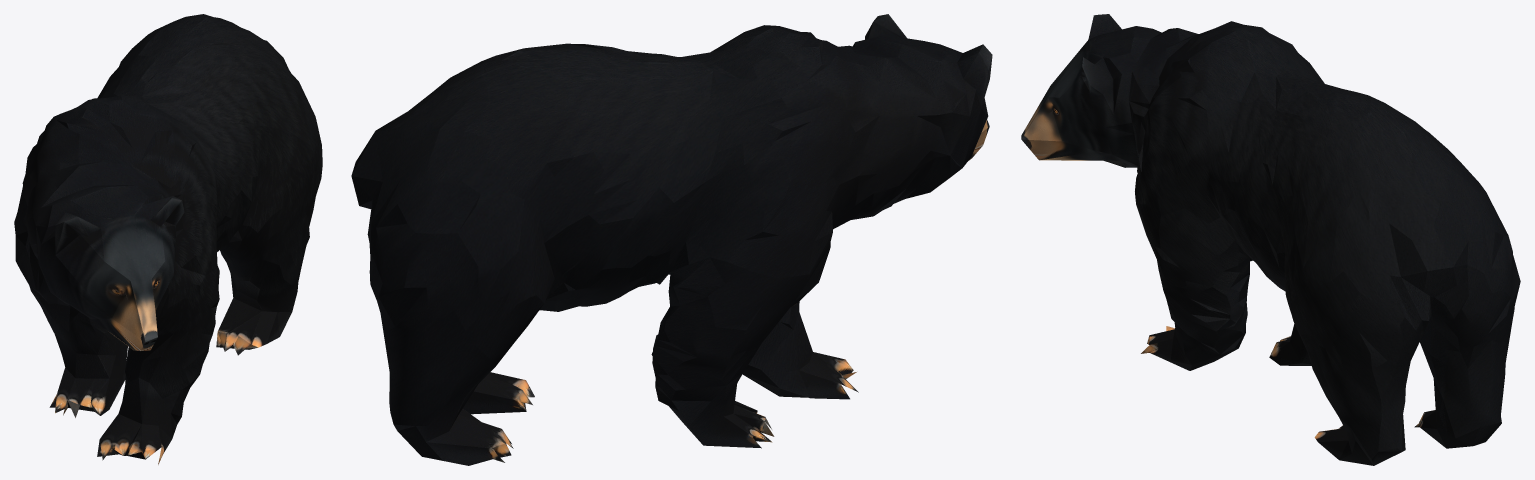
The model's file is bear.glb.
The picture shows the model from 3 angles, left to right: view 1: azimuth 30°, elevation 25°; view 2: azimuth 150°, elevation 25°; view 3: azimuth 270°, elevation 25°; orthographic projection. The views are drawn at different scales.
Size of the model in its own units: 1.7 by 1.36 by 1.88.
1 material, 1 textured.
